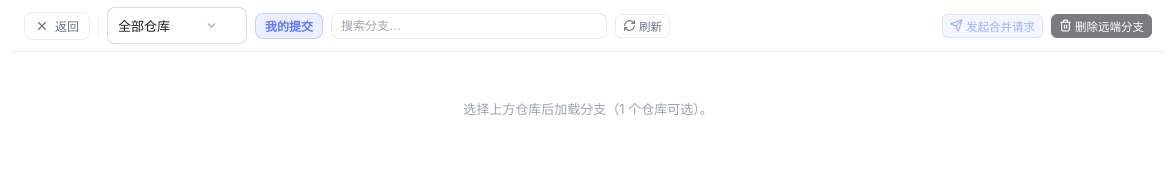
PendingMrView › shows a candidate card with merge state, my badge and target inference source
Click the dropdown labelled "全部仓库" at (177, 26), box x1=107 y1=7 x2=247 y2=44
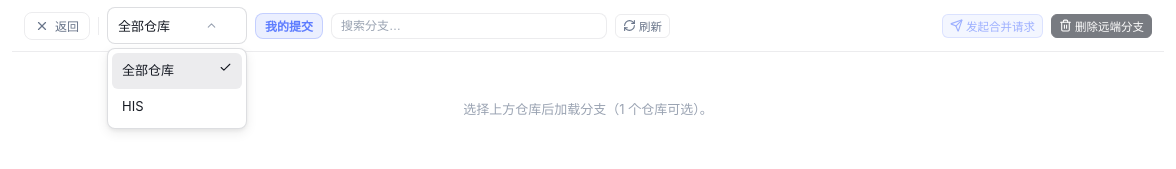
Click the option "HIS" at (133, 106), box x1=122 y1=98 x2=144 y2=114
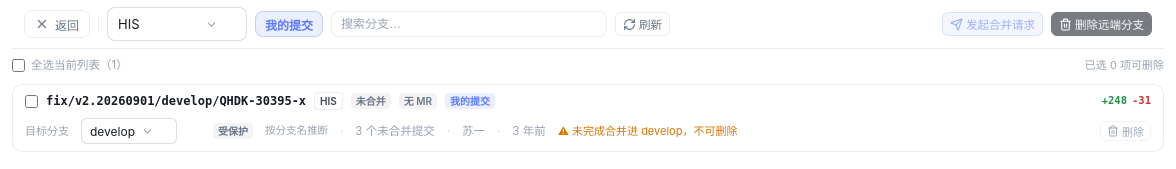
Result: the text "fix/v2.20260901/develop/QHDK-30395-x" is shown at x1=46 y1=92 x2=306 y2=110
Result: the text "未合并" is shown at x1=351 y1=93 x2=391 y2=109
Result: the text "无 MR" is shown at x1=399 y1=93 x2=437 y2=109
